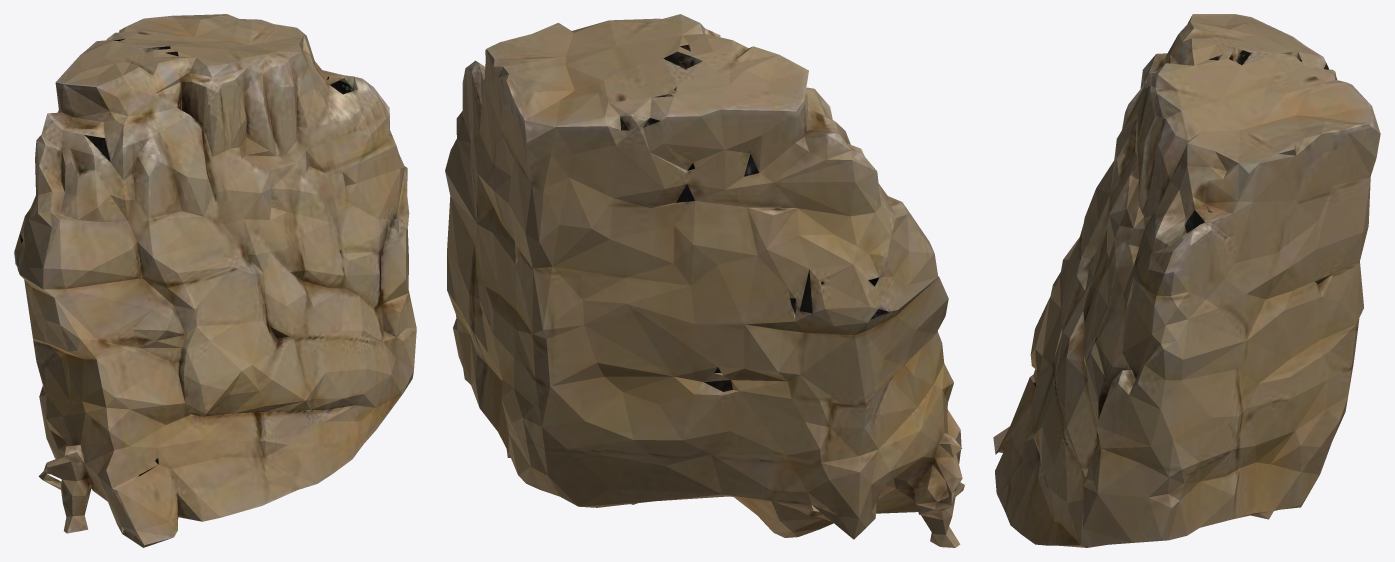
File: rock_limestone_tall_lod0.glb
The picture shows the model from 3 angles, left to right: view 1: azimuth 30°, elevation 25°; view 2: azimuth 150°, elevation 25°; view 3: azimuth 270°, elevation 25°; orthographic projection. The views are drawn at different scales.
Visible parts, largest first — view 1: rock_limestone_tall_lod0; view 2: rock_limestone_tall_lod0; view 3: rock_limestone_tall_lod0.
Boxes of the visible parts, box(x1,y1,x2,y2) form: rock_limestone_tall_lod0: box(14, 14, 416, 547); rock_limestone_tall_lod0: box(445, 14, 964, 547); rock_limestone_tall_lod0: box(993, 14, 1380, 547).
Size of the model in its own units: 3.48 by 3.49 by 2.63.
1 material, 1 textured.
